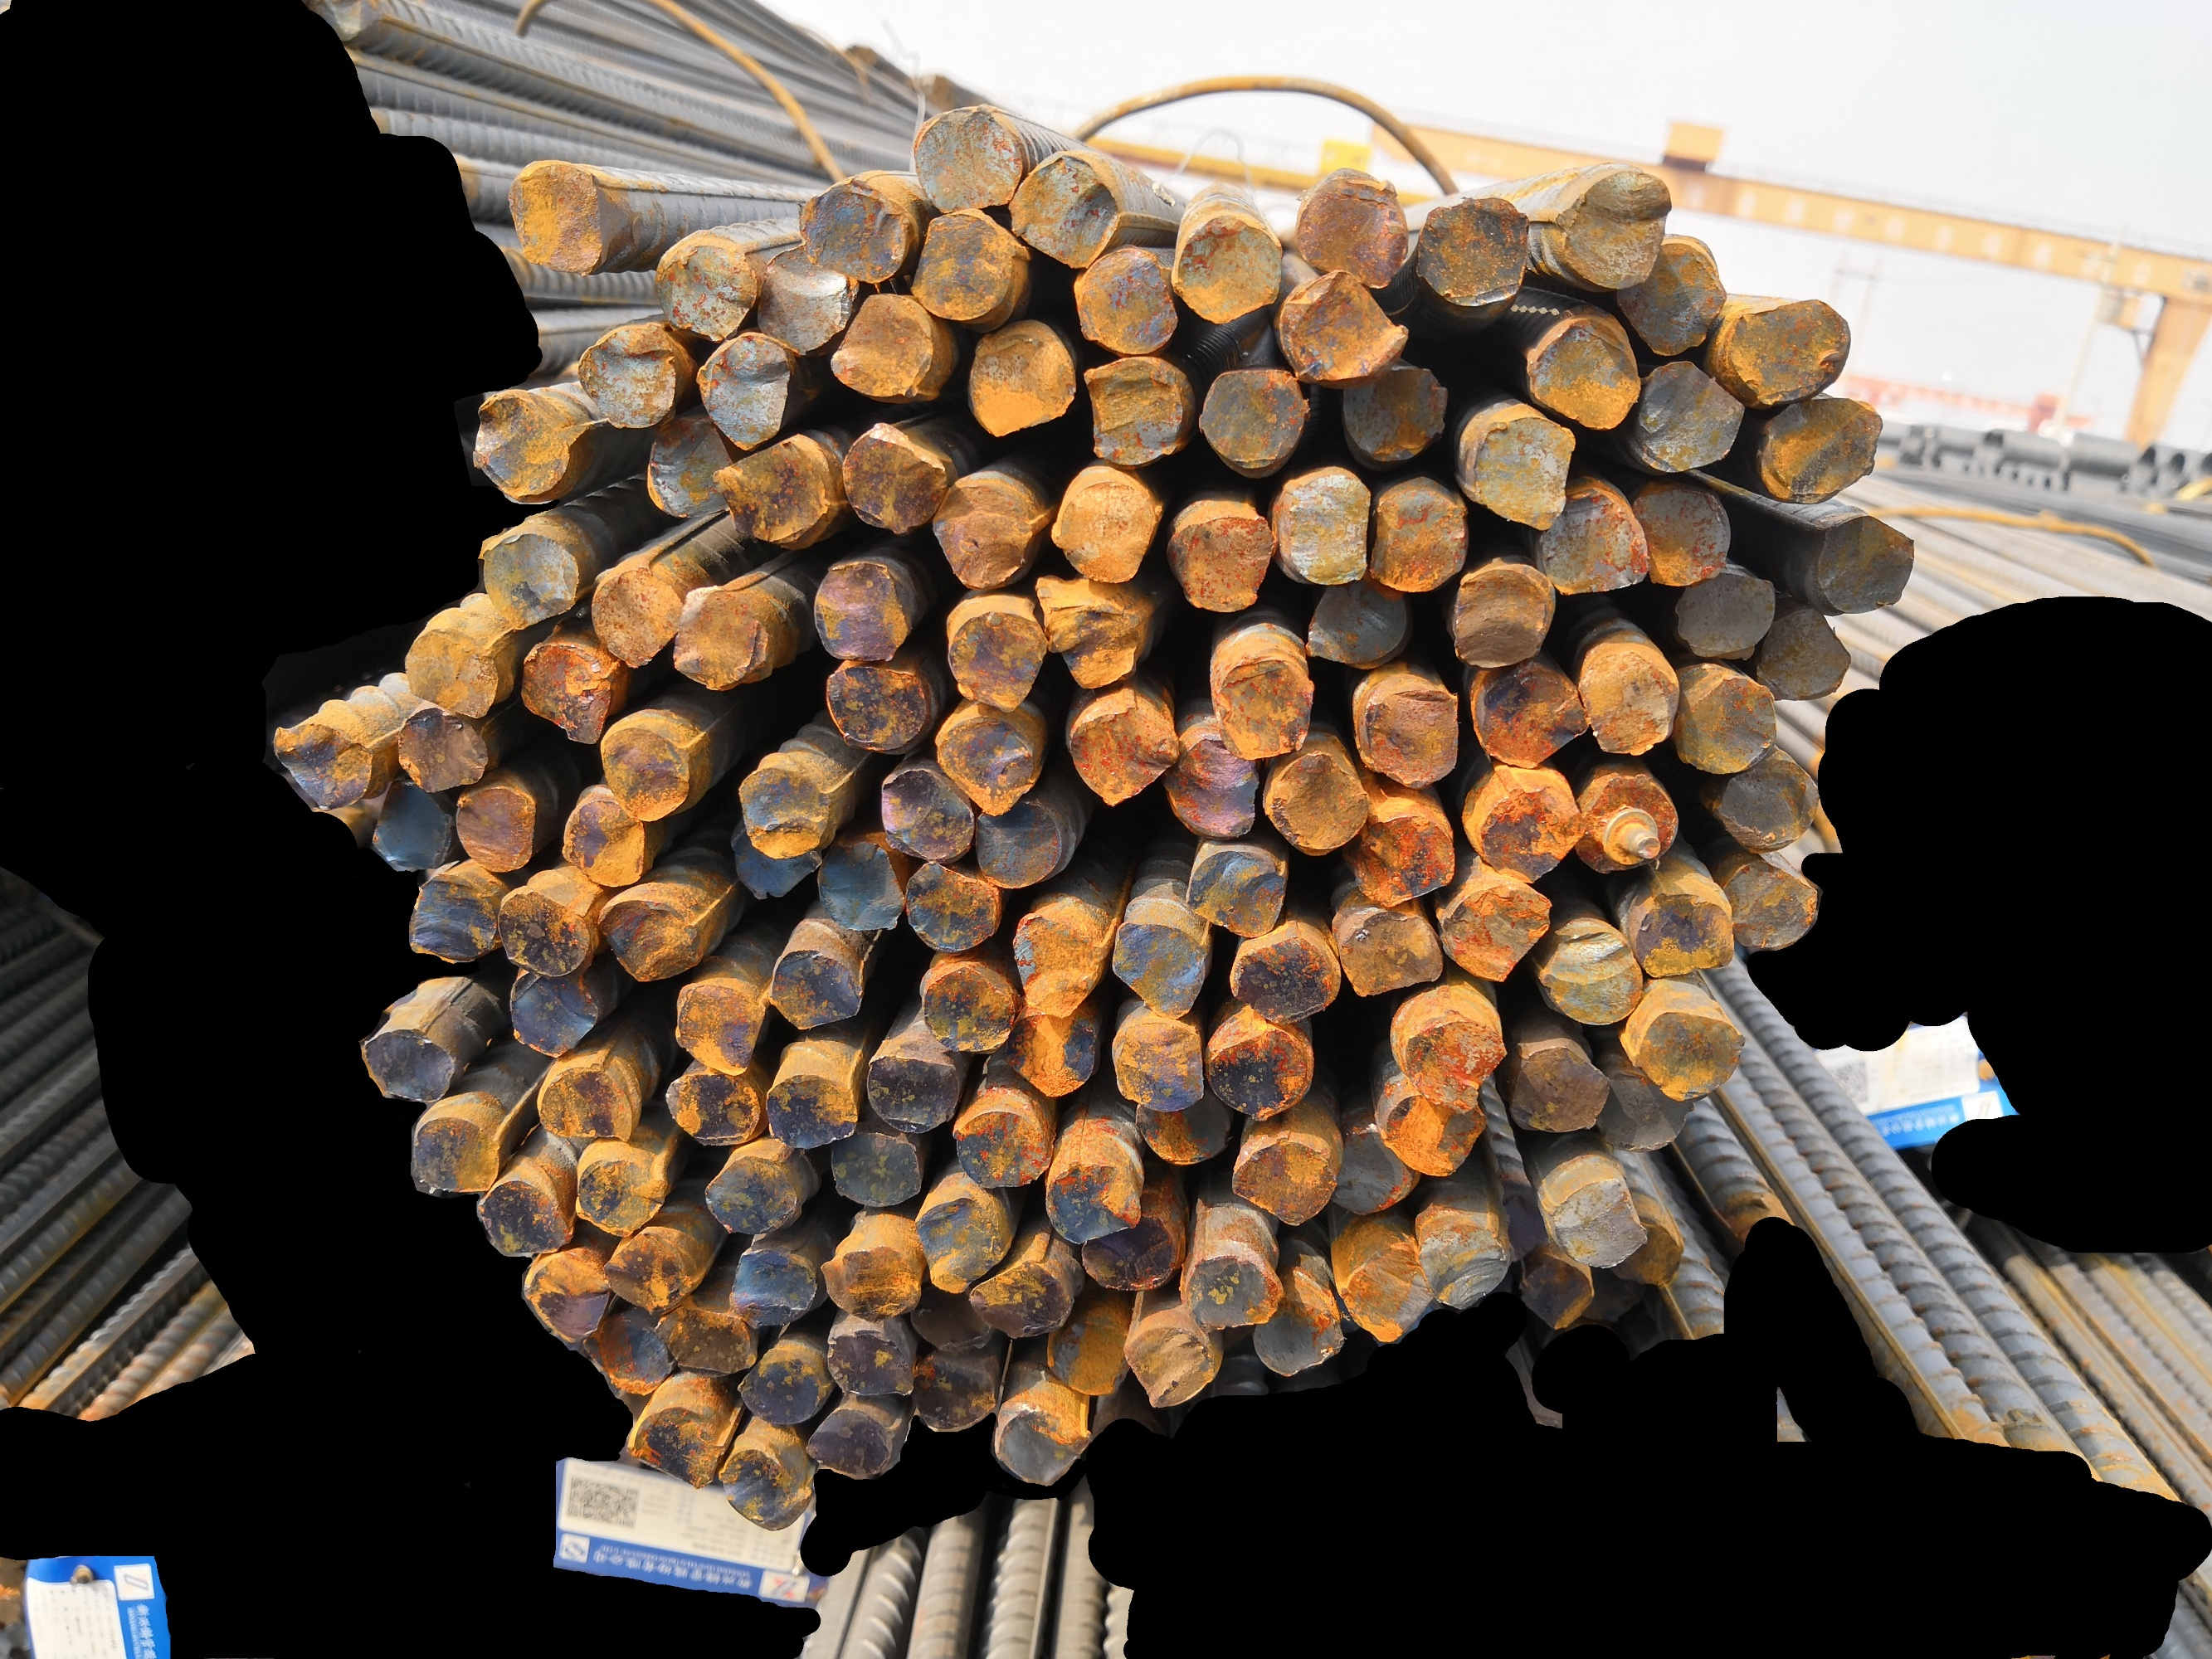rebar: (1750, 390, 1890, 511), (1407, 190, 1534, 319), (999, 136, 1121, 268), (1267, 274, 1407, 387), (1555, 166, 1672, 296), (1611, 235, 1727, 366), (1046, 455, 1159, 587), (920, 469, 1041, 591), (1523, 312, 1644, 434), (1623, 356, 1747, 474), (702, 429, 830, 544), (1170, 206, 1286, 329), (495, 152, 610, 277), (1529, 486, 1656, 599), (1461, 410, 1579, 530), (1325, 352, 1452, 464), (903, 202, 1018, 324), (1722, 296, 1851, 404), (1443, 552, 1558, 673), (899, 96, 1023, 207), (967, 314, 1075, 441), (795, 166, 910, 284), (465, 387, 579, 507), (1191, 359, 1311, 472), (1063, 242, 1178, 359), (1293, 173, 1407, 291), (1063, 692, 1178, 807), (1206, 647, 1321, 762), (831, 422, 950, 533), (577, 551, 685, 673), (1156, 720, 1262, 843), (1363, 472, 1468, 598), (570, 314, 678, 434), (469, 516, 580, 631), (828, 288, 938, 404), (1433, 880, 1555, 985), (1037, 582, 1150, 694), (927, 704, 1039, 817), (1347, 796, 1459, 910), (746, 237, 856, 352), (1170, 502, 1276, 620), (1267, 467, 1370, 589), (934, 601, 1046, 713), (1666, 561, 1780, 671), (648, 227, 757, 342), (1081, 349, 1187, 465), (1578, 641, 1682, 760), (1468, 667, 1590, 769), (692, 331, 795, 450), (1572, 767, 1679, 880), (1201, 1019, 1314, 1124), (1008, 906, 1109, 1023), (1534, 1175, 1651, 1276), (1536, 922, 1644, 1030), (811, 556, 915, 667), (1473, 775, 1584, 880), (1808, 512, 1921, 615), (1227, 925, 1344, 1025), (1227, 1127, 1344, 1227), (669, 584, 776, 692), (1625, 486, 1731, 594), (1178, 838, 1288, 943), (1356, 681, 1461, 791), (980, 1387, 1093, 1488), (1679, 667, 1780, 779), (1630, 885, 1743, 985), (638, 404, 734, 521), (500, 951, 605, 1058), (512, 640, 621, 742), (816, 652, 927, 751), (1393, 1011, 1511, 1103), (397, 620, 507, 720), (1633, 1006, 1745, 1103), (873, 760, 976, 864), (621, 1394, 730, 1492), (1713, 758, 1825, 854), (896, 859, 1002, 958), (1748, 599, 1855, 699), (910, 1185, 1004, 1297), (270, 723, 383, 816), (957, 1251, 1072, 1342), (596, 720, 695, 824), (1117, 1314, 1222, 1413), (1318, 1122, 1422, 1222), (1110, 913, 1208, 1019), (757, 934, 865, 1030), (1340, 899, 1442, 1000), (966, 796, 1072, 892), (600, 889, 708, 983), (356, 777, 458, 875), (1333, 1246, 1436, 1344), (1267, 758, 1370, 856), (812, 1236, 927, 1323), (530, 1060, 640, 1150), (668, 979, 767, 1079), (518, 1239, 617, 1338), (558, 791, 655, 892), (1511, 1044, 1612, 1141), (1293, 580, 1408, 666), (943, 1107, 1055, 1194), (565, 1145, 668, 1239), (464, 1173, 577, 1258), (699, 1148, 804, 1241), (396, 868, 493, 965), (732, 758, 831, 854), (446, 775, 539, 878), (356, 1019, 464, 1107), (1236, 1290, 1344, 1377), (1377, 1094, 1487, 1180), (499, 882, 594, 979), (715, 1438, 812, 1534), (1110, 1019, 1210, 1114), (818, 831, 906, 936), (1041, 1159, 1145, 1248), (819, 1124, 927, 1209), (392, 702, 488, 798), (1044, 1300, 1137, 1399), (915, 965, 1014, 1058), (1417, 1222, 1517, 1314), (408, 1107, 509, 1197), (821, 1316, 920, 1406), (1074, 1215, 1185, 1295), (654, 1068, 762, 1150), (718, 809, 816, 899), (730, 1349, 831, 1436), (757, 1068, 858, 1155), (591, 1229, 699, 1309), (1595, 1070, 1694, 1157), (1720, 871, 1823, 955), (650, 1304, 758, 1382), (1178, 1253, 1286, 1331), (861, 1047, 962, 1131), (1128, 1084, 1231, 1166), (1006, 1014, 1100, 1103), (804, 1401, 903, 1485), (901, 1354, 997, 1438), (727, 1246, 818, 1331), (1517, 1243, 1597, 1338), (587, 1307, 675, 1394), (905, 1279, 999, 1359), (1607, 1216, 1693, 1295)
